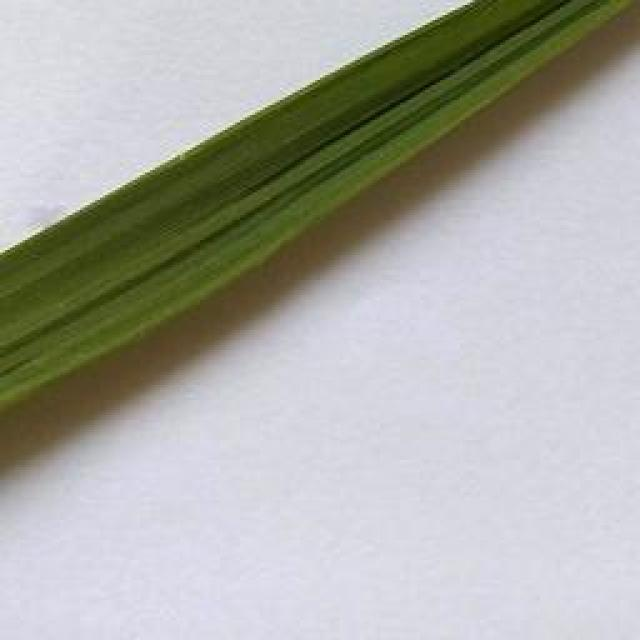Healthy-Plant: (0, 2, 632, 407)
